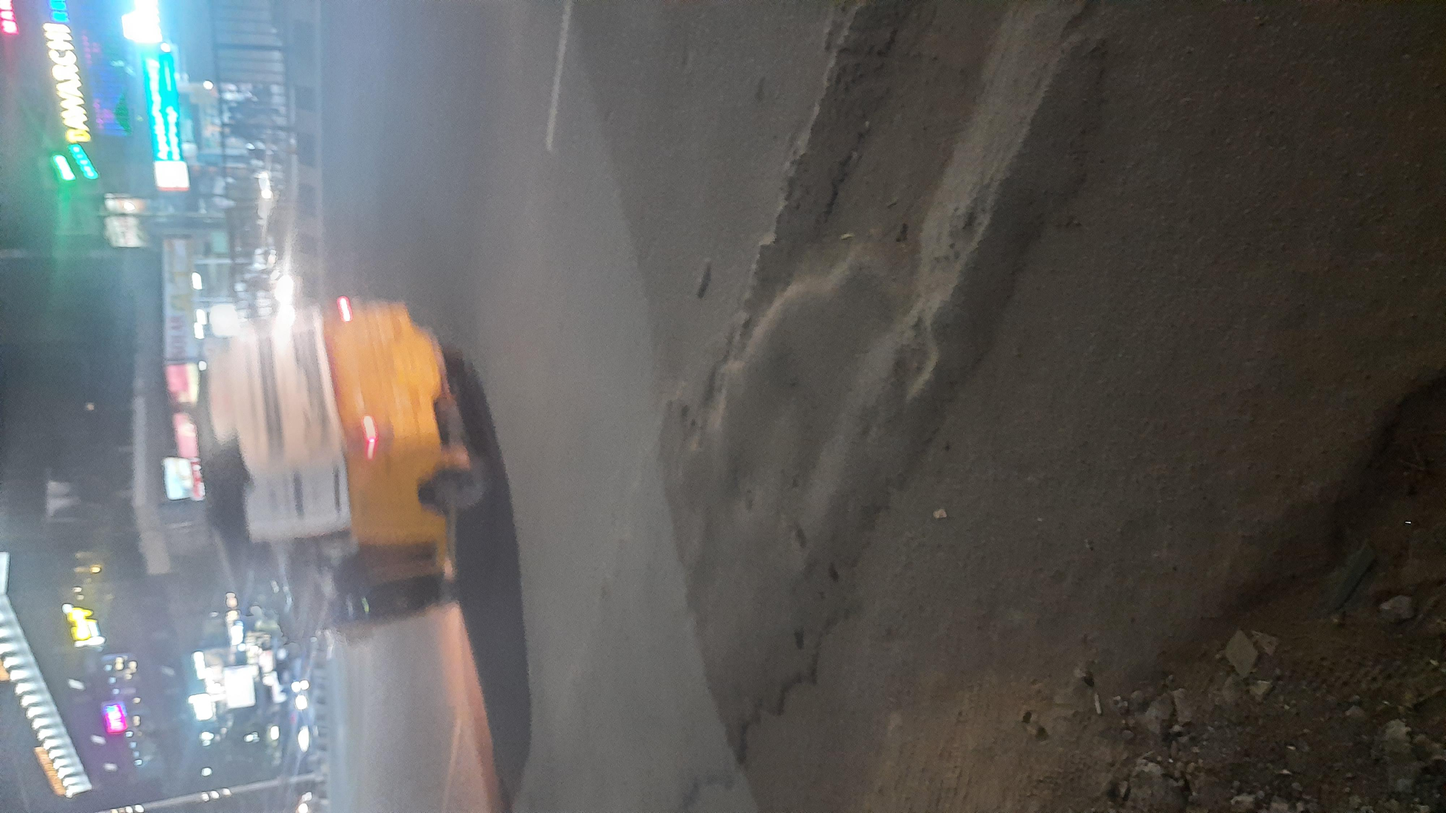Auto: (257, 101, 916, 280)
